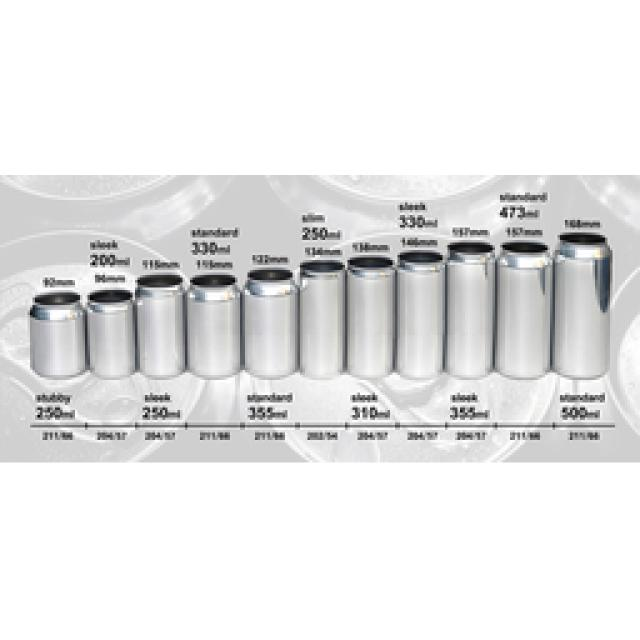alumunium: (30, 250, 440, 378), (492, 235, 608, 378), (445, 242, 492, 378)
